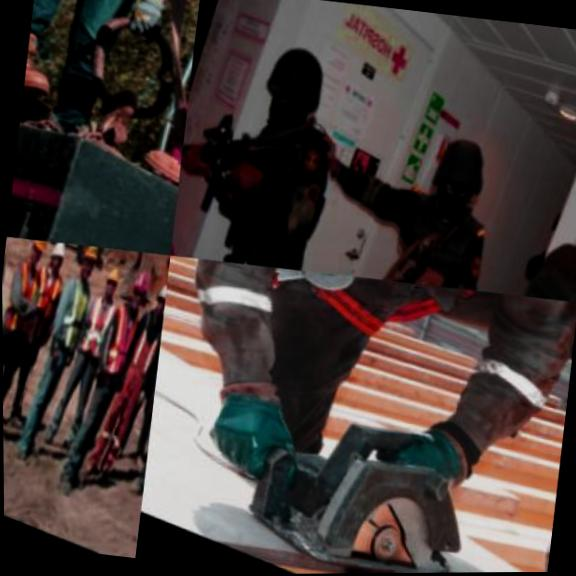safety_vest: (147, 252, 576, 502), (195, 103, 353, 274), (340, 178, 497, 291), (58, 285, 120, 369), (86, 300, 142, 386), (37, 278, 95, 356), (14, 268, 67, 348), (2, 258, 43, 338)
